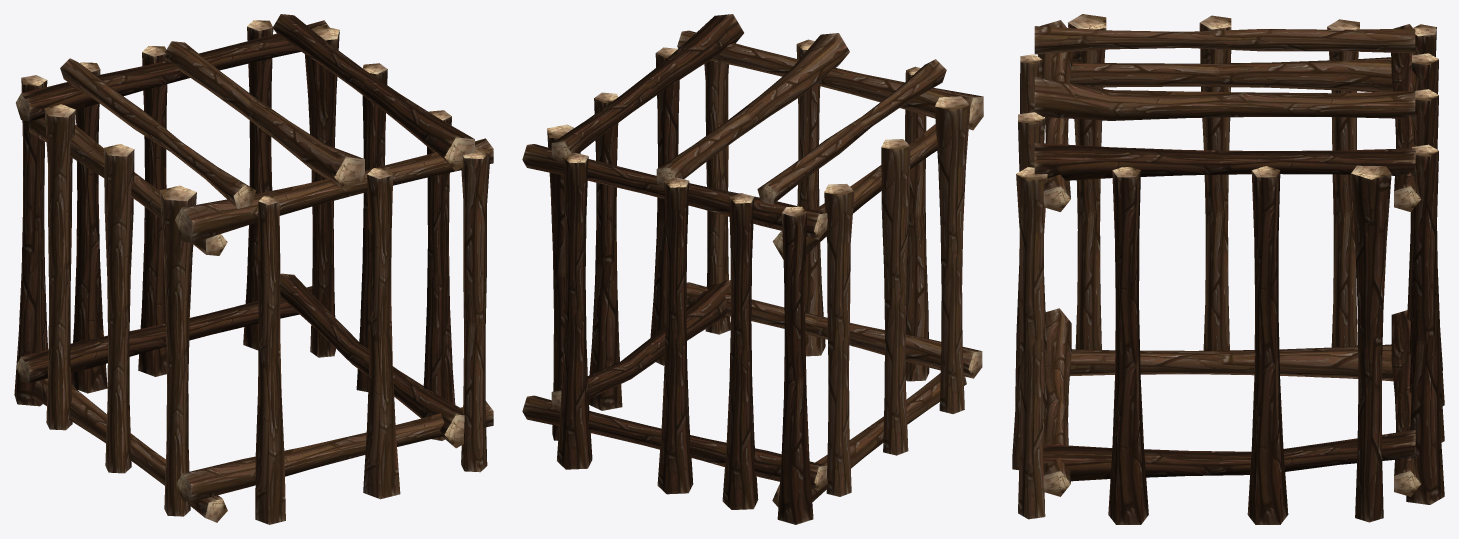
The model's file is cage.FBX.
The picture shows the model from 3 angles, left to right: view 1: azimuth 30°, elevation 25°; view 2: azimuth 150°, elevation 25°; view 3: azimuth 270°, elevation 25°; orthographic projection. The views are drawn at different scales.
Visible parts, largest first — view 1: Cage; view 2: Cage; view 3: Cage.
Boxes of the visible parts, bbox=[...] form: Cage: bbox=[14, 14, 493, 524]; Cage: bbox=[522, 14, 983, 524]; Cage: bbox=[1012, 14, 1444, 524].
Size of the model in its own units: 61.3 by 64.64 by 68.02.
1 material, 1 textured.
